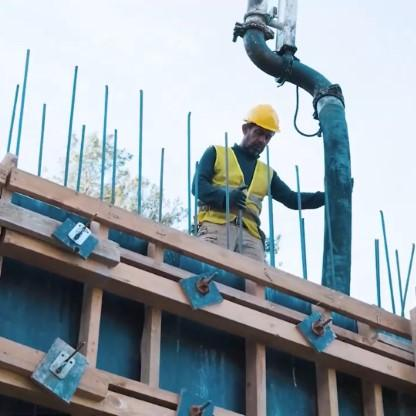helmet: (231, 109, 283, 160)
